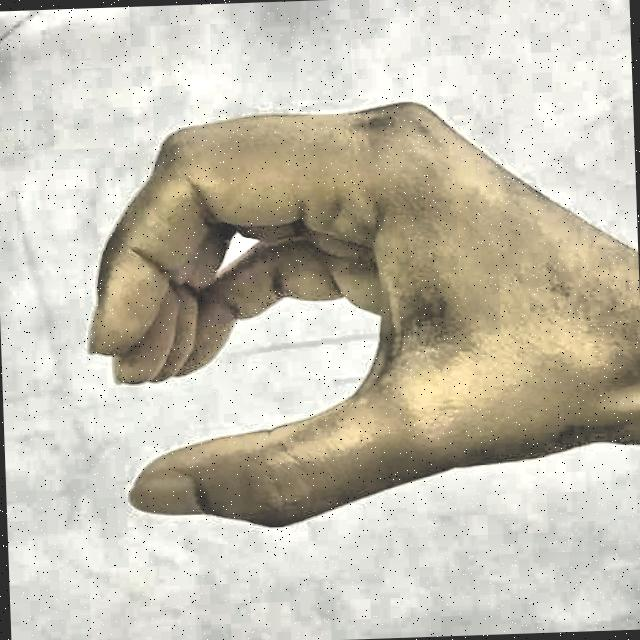Ka: (61, 58, 619, 588)
